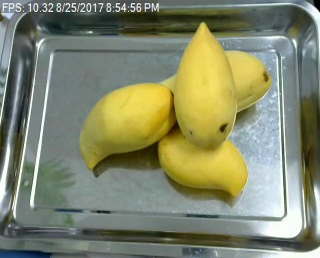Mango: (75, 81, 181, 172), (151, 49, 272, 119), (171, 22, 238, 148), (156, 127, 251, 199)
